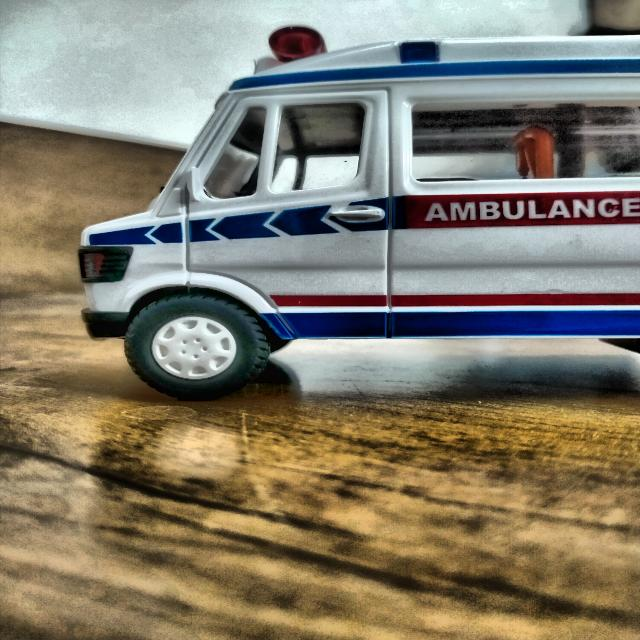Ambulance: (70, 16, 640, 424)
